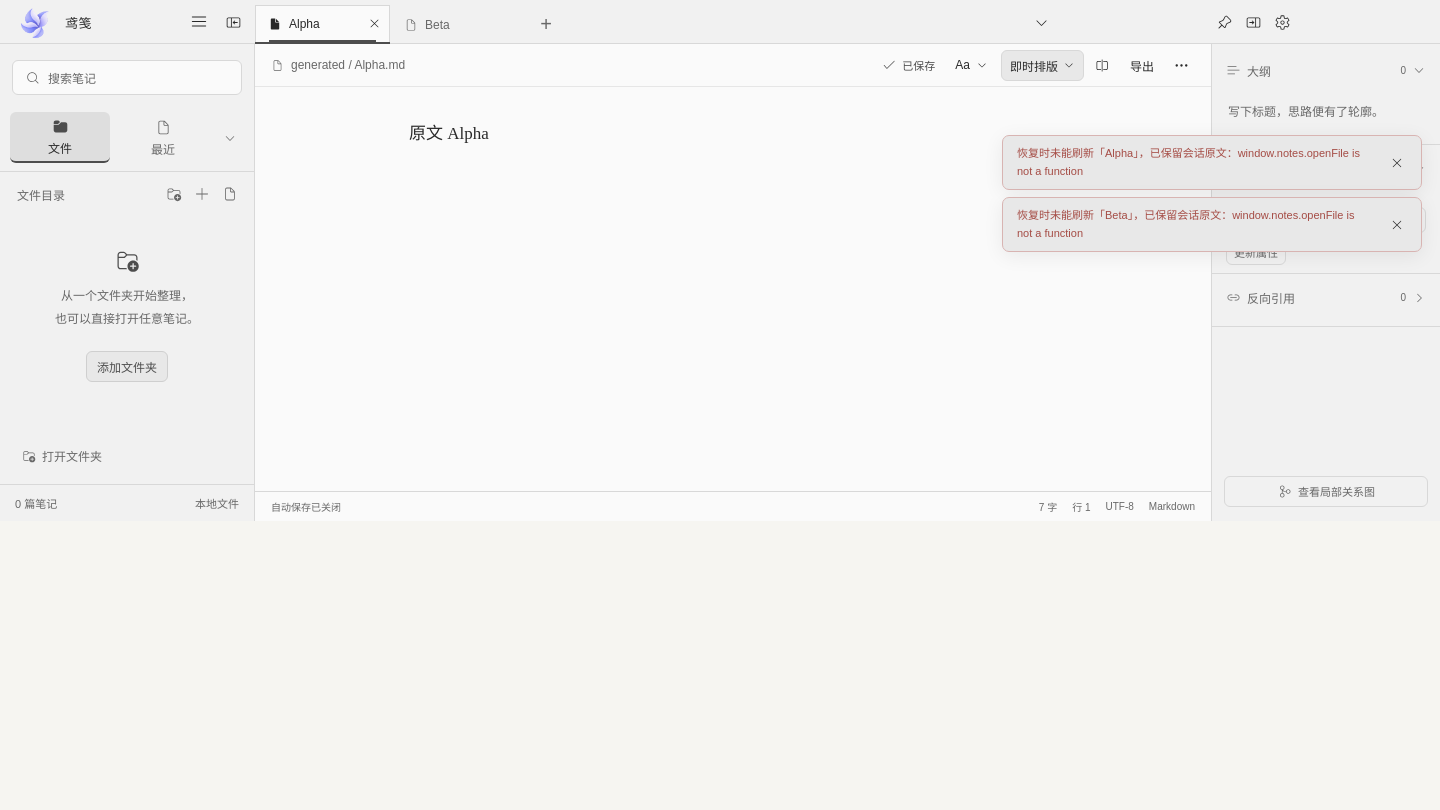
Test: adds selected folders and preserves individual unsupported-file feedback
Click the button named "应用菜单": x=199, y=22 [185,8,213,36]
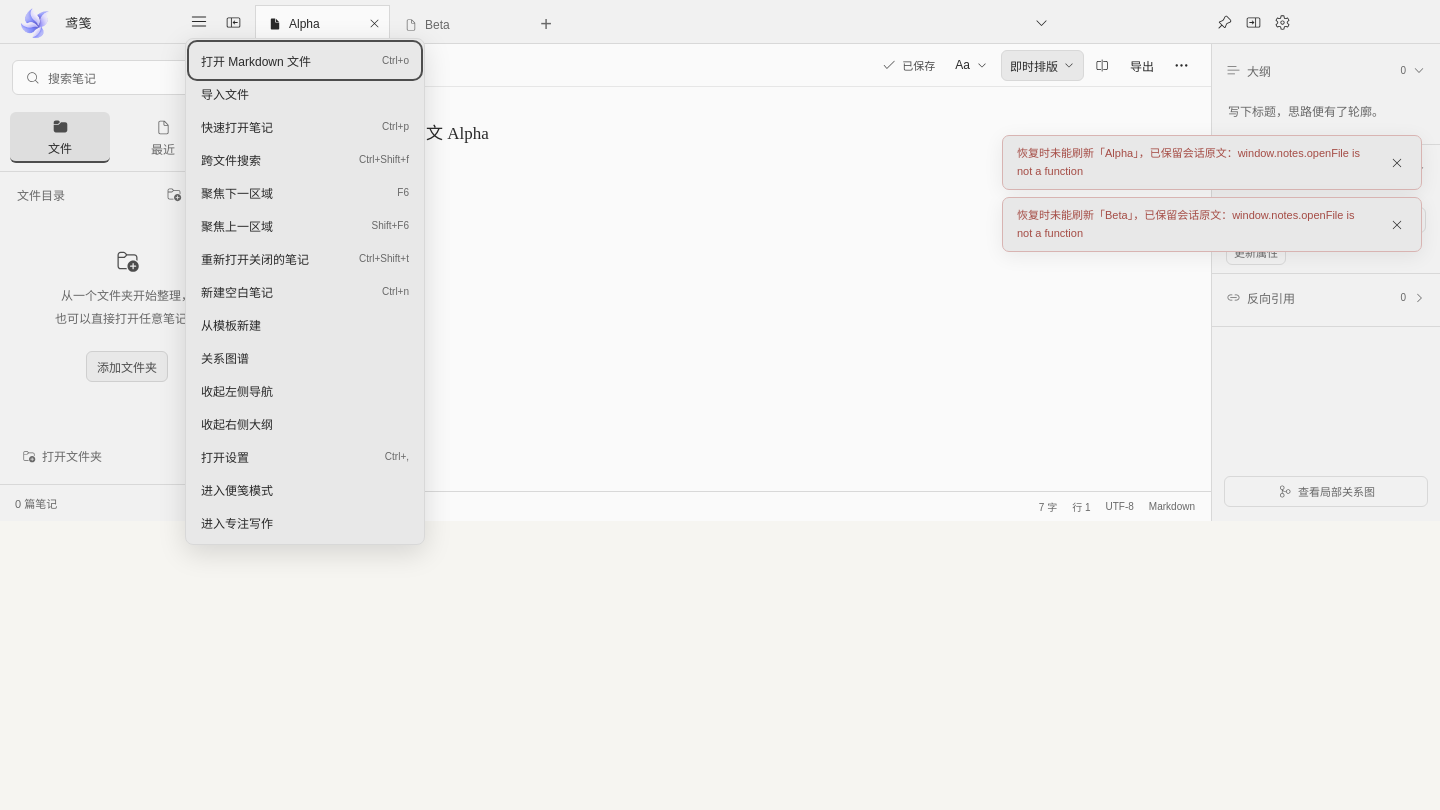
Click the menu item "导入文件": x=305, y=94 [191,77,419,110]
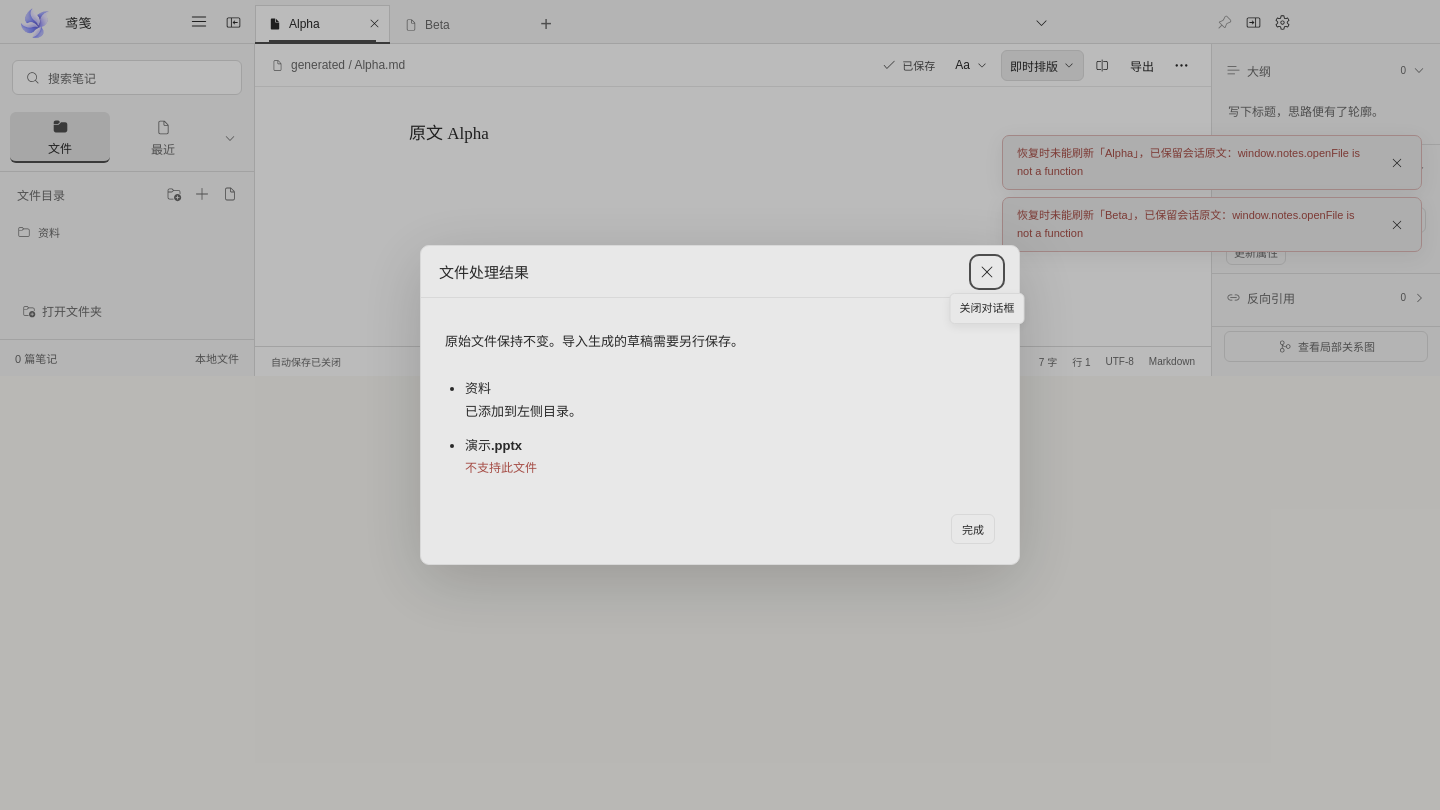
Expected: the text "已添加到左侧目录" is shown, [465,404,582,419]
Expected: the text "演示.pptx" is shown, [465,438,522,453]
